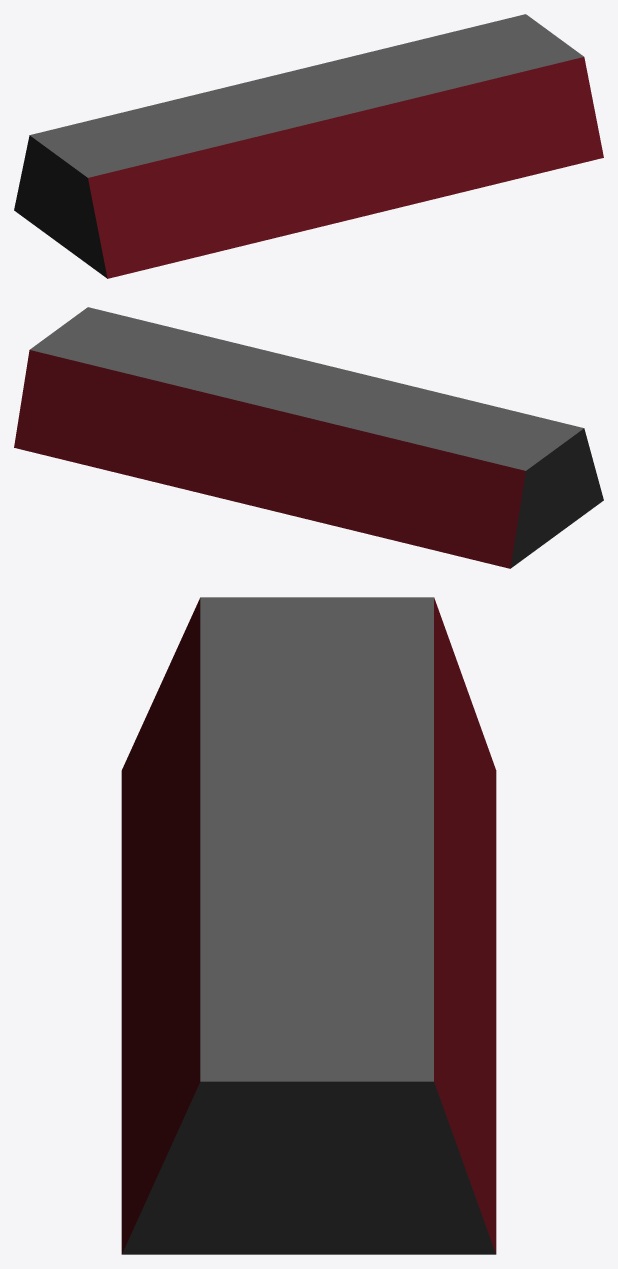
The model's file is wall.dae.
3 views of the same model, one above another, from view 1: azimuth 30°, elevation 25°; view 2: azimuth 150°, elevation 25°; view 3: azimuth 270°, elevation 25° (orthographic). The views are drawn at different scales.
Parts seen in each view (by area): view 1: SketchUp (×3); view 2: SketchUp (×3); view 3: SketchUp (×4).
Part boxes in pixels (box(x1,y1,x2,y2)): SketchUp (×3): box(14, 14, 603, 278); SketchUp (×3): box(14, 307, 603, 568); SketchUp (×4): box(121, 597, 496, 1254).
Size of the model in its own units: 118 by 38.58 by 19.69.
